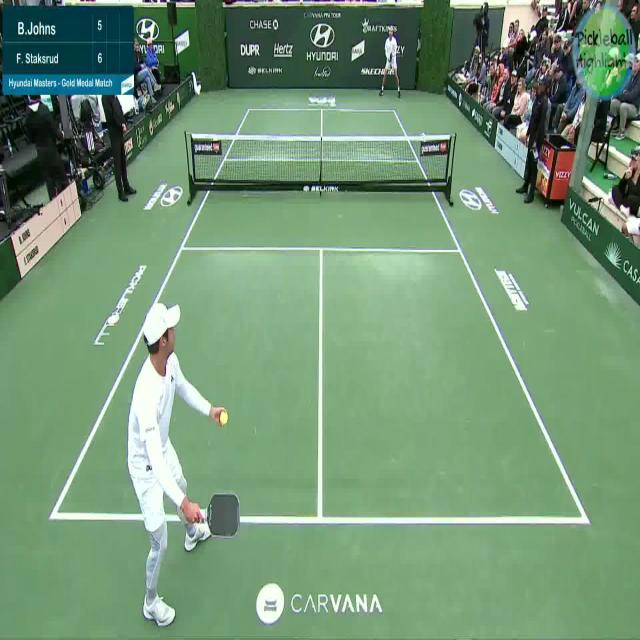Court: (58, 108, 586, 524)
ball: (214, 403, 232, 433)
